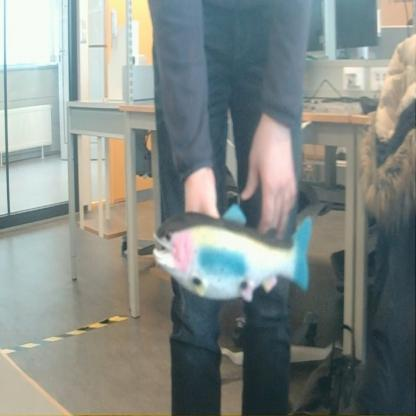rubberfish: (148, 198, 315, 305)
